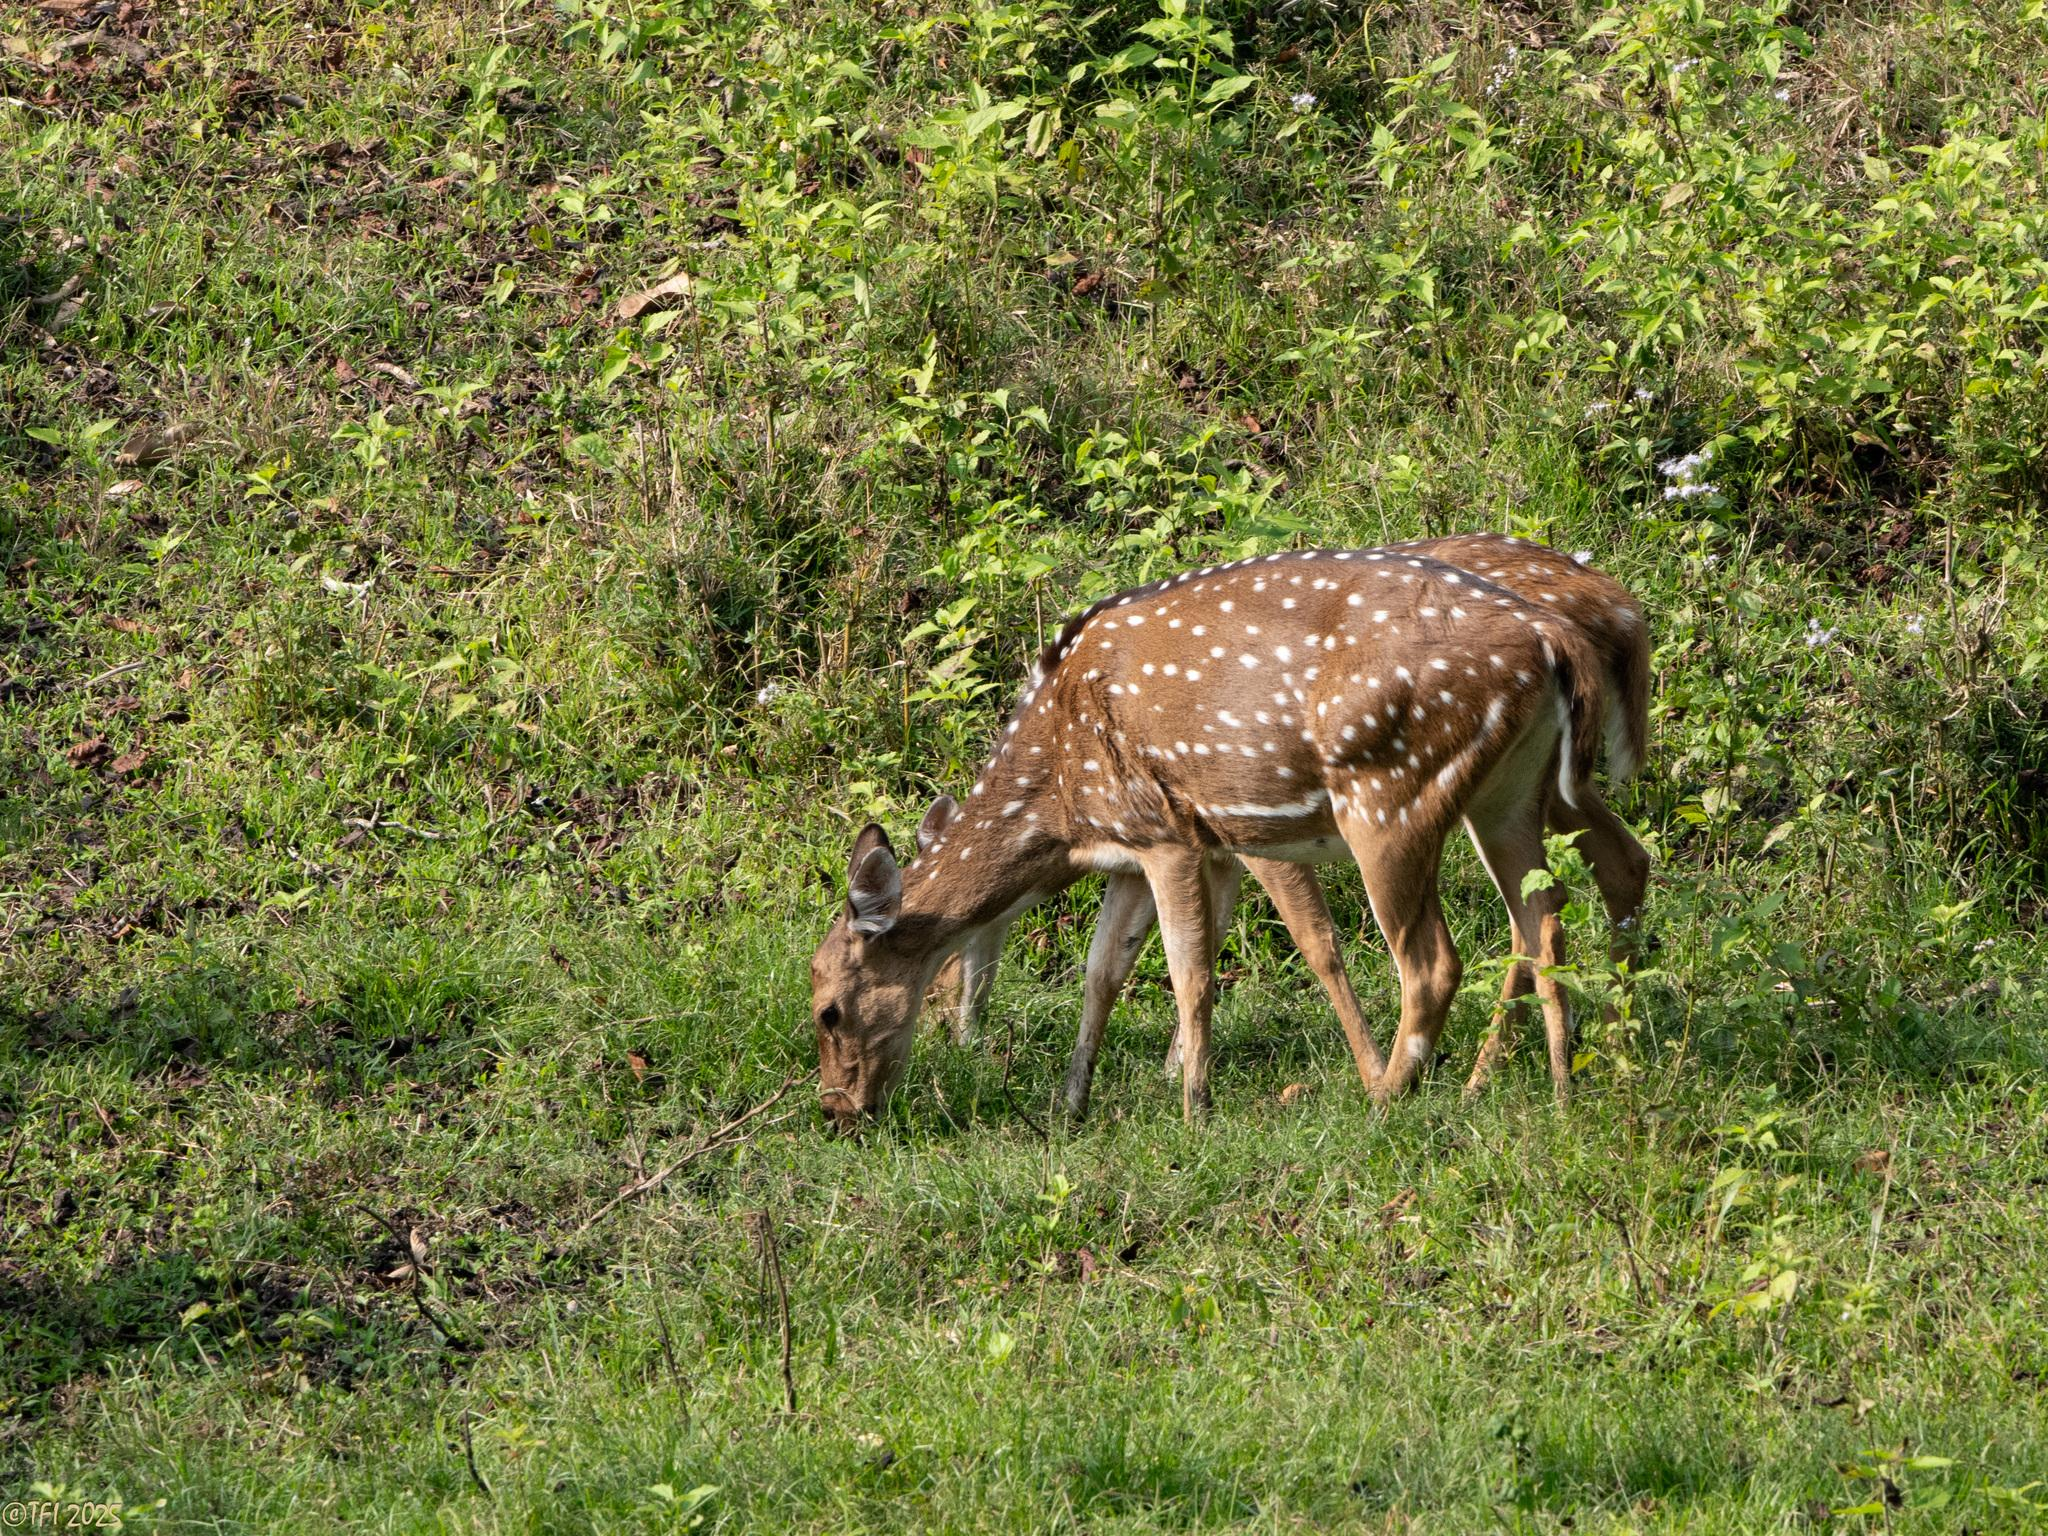Deer: (814, 547, 1647, 1119)
